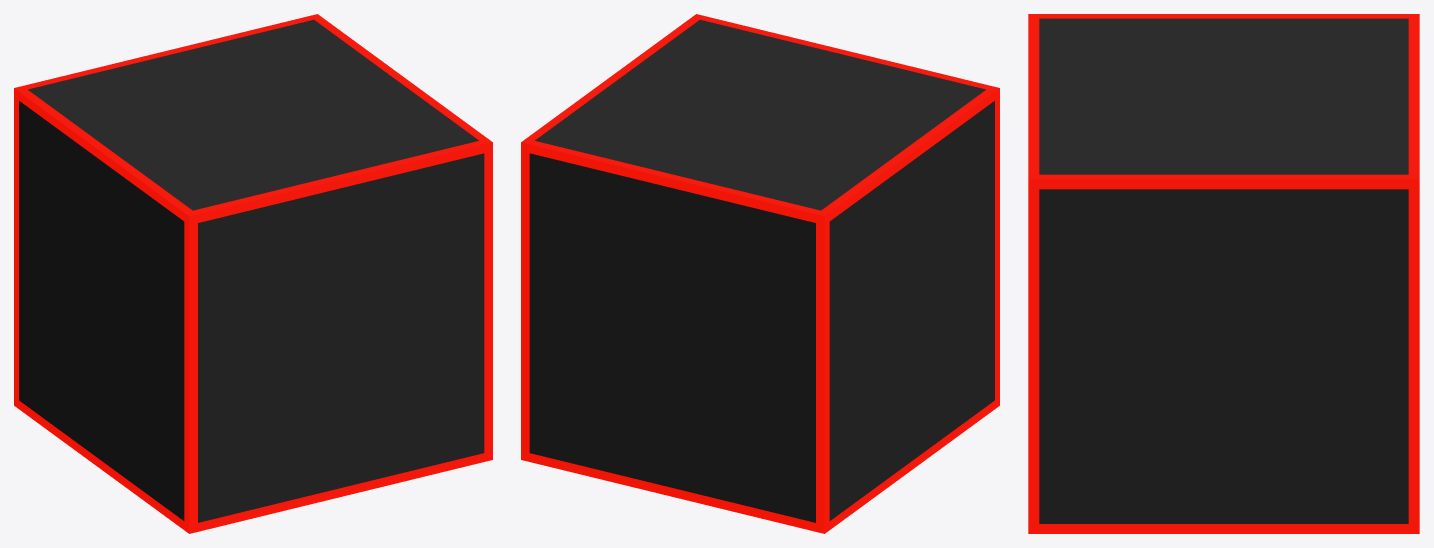
Rendered from GroundRed.glb.
3 views of the same model, side by side, from view 1: azimuth 30°, elevation 25°; view 2: azimuth 150°, elevation 25°; view 3: azimuth 270°, elevation 25° (orthographic). The views are drawn at different scales.
Parts seen in each view (by area): view 1: Red; view 2: Red; view 3: Red.
Boxes of the visible parts, x1,y1,x2,y2 form: Red: (14, 14, 492, 533); Red: (521, 14, 999, 533); Red: (1028, 14, 1419, 533).
Bounding box in the file's own units: 2 × 2 × 2.
